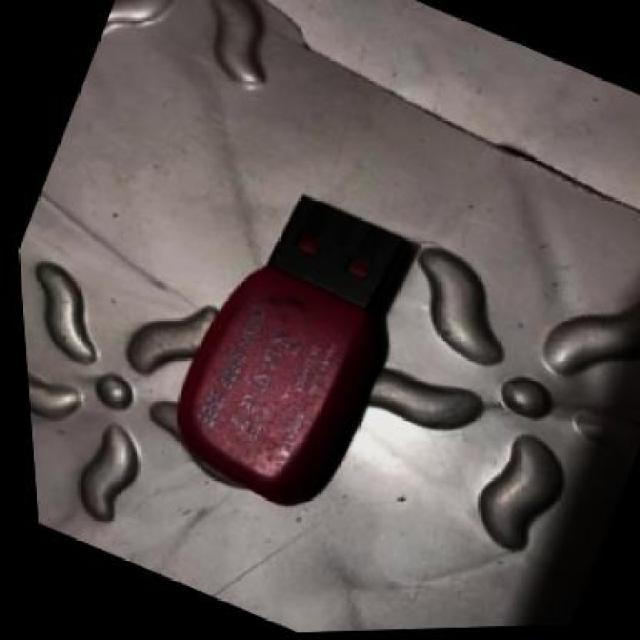Flashdisk: (121, 161, 456, 534)
